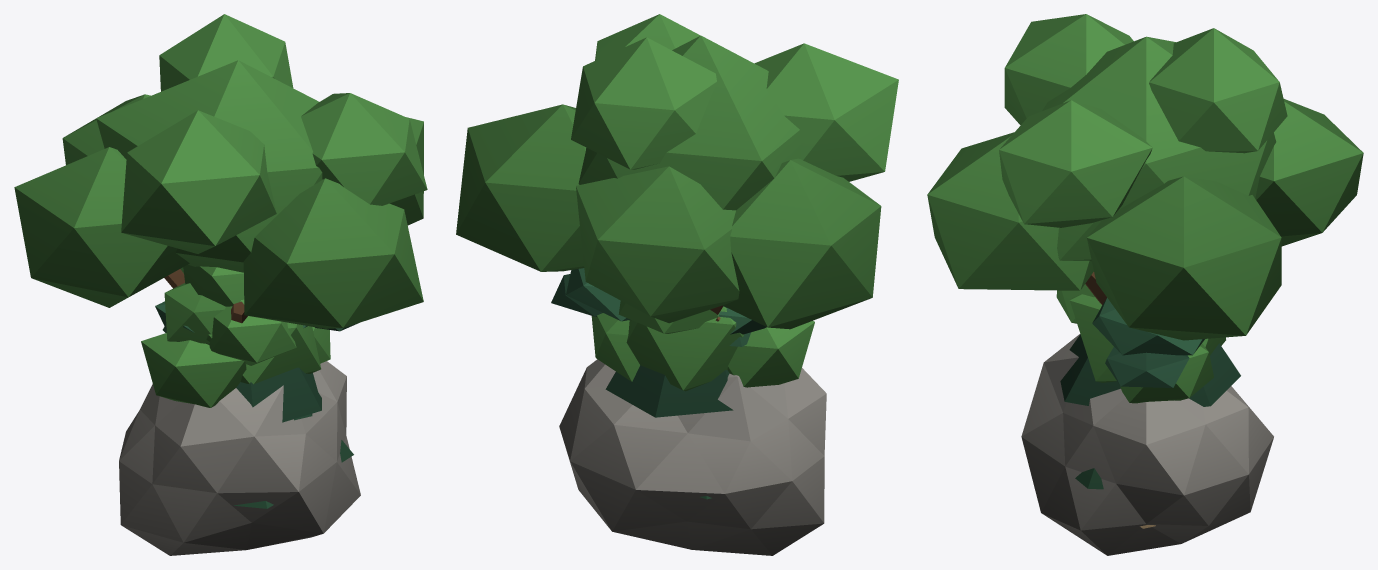
Rendered from nature.glb.
3 renders of one model, left to right at view 1: azimuth 30°, elevation 25°; view 2: azimuth 150°, elevation 25°; view 3: azimuth 270°, elevation 25°, orthographic. The views are drawn at different scales.
Parts seen in each view (by area): view 1: tree_big, rock_big, tree_a, tree_b, pine_b; view 2: tree_big, rock_big, tree_a, pine_b, pine_k; view 3: tree_big, rock_big, pine_k, tree_a, pine_b.
Boxes of the visible parts, x1=… form: tree_big: x1=14, y1=14, x2=427, y2=328; rock_big: x1=119, y1=361, x2=360, y2=555; tree_a: x1=141, y1=267, x2=330, y2=407; tree_b: x1=164, y1=264, x2=244, y2=343; pine_b: x1=162, y1=327, x2=353, y2=462; tree_big: x1=456, y1=14, x2=898, y2=329; rock_big: x1=559, y1=359, x2=826, y2=555; tree_a: x1=591, y1=301, x2=814, y2=391; pine_b: x1=605, y1=306, x2=750, y2=499; pine_k: x1=551, y1=268, x2=766, y2=334; tree_big: x1=927, y1=14, x2=1363, y2=340; rock_big: x1=1021, y1=334, x2=1273, y2=555; pine_k: x1=1092, y1=298, x2=1204, y2=387; tree_a: x1=1056, y1=284, x2=1225, y2=403; pine_b: x1=1060, y1=334, x2=1240, y2=489.
Bounding box in the file's own units: 6.18 × 7.67 × 5.81.
